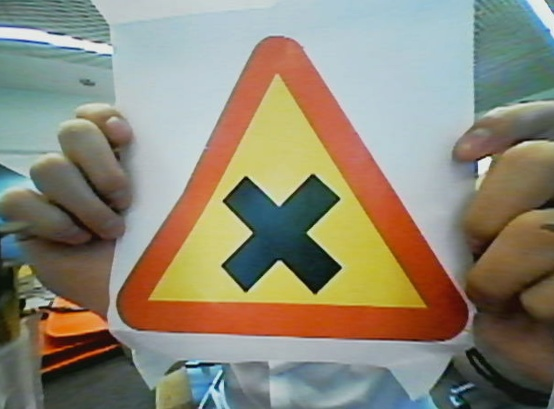junction: (111, 6, 473, 343)
